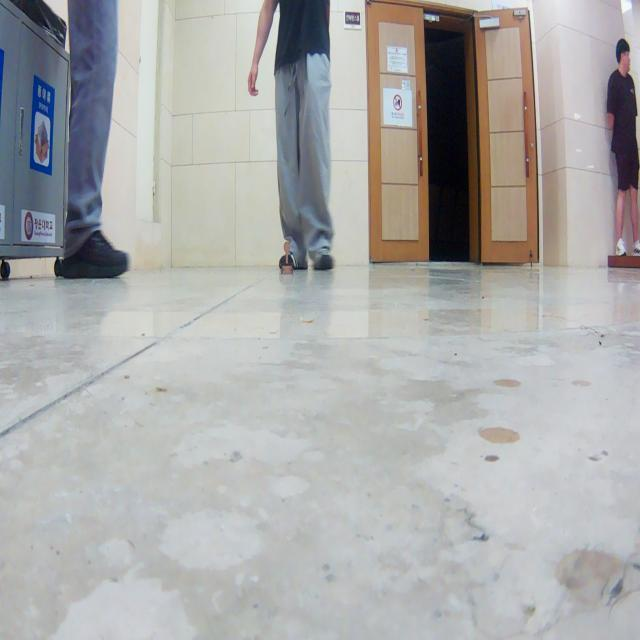target: (279, 242, 294, 275)
